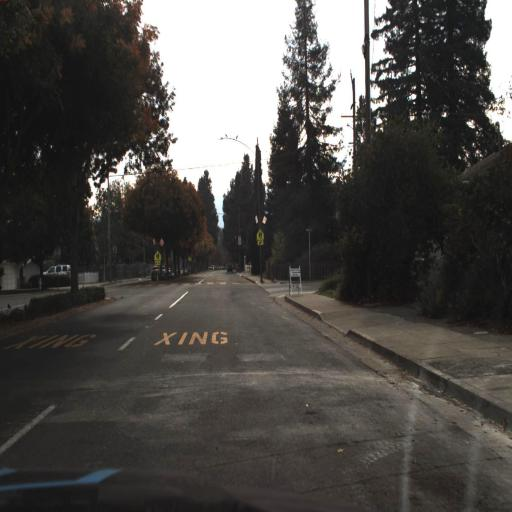car: (38, 260, 74, 283)
